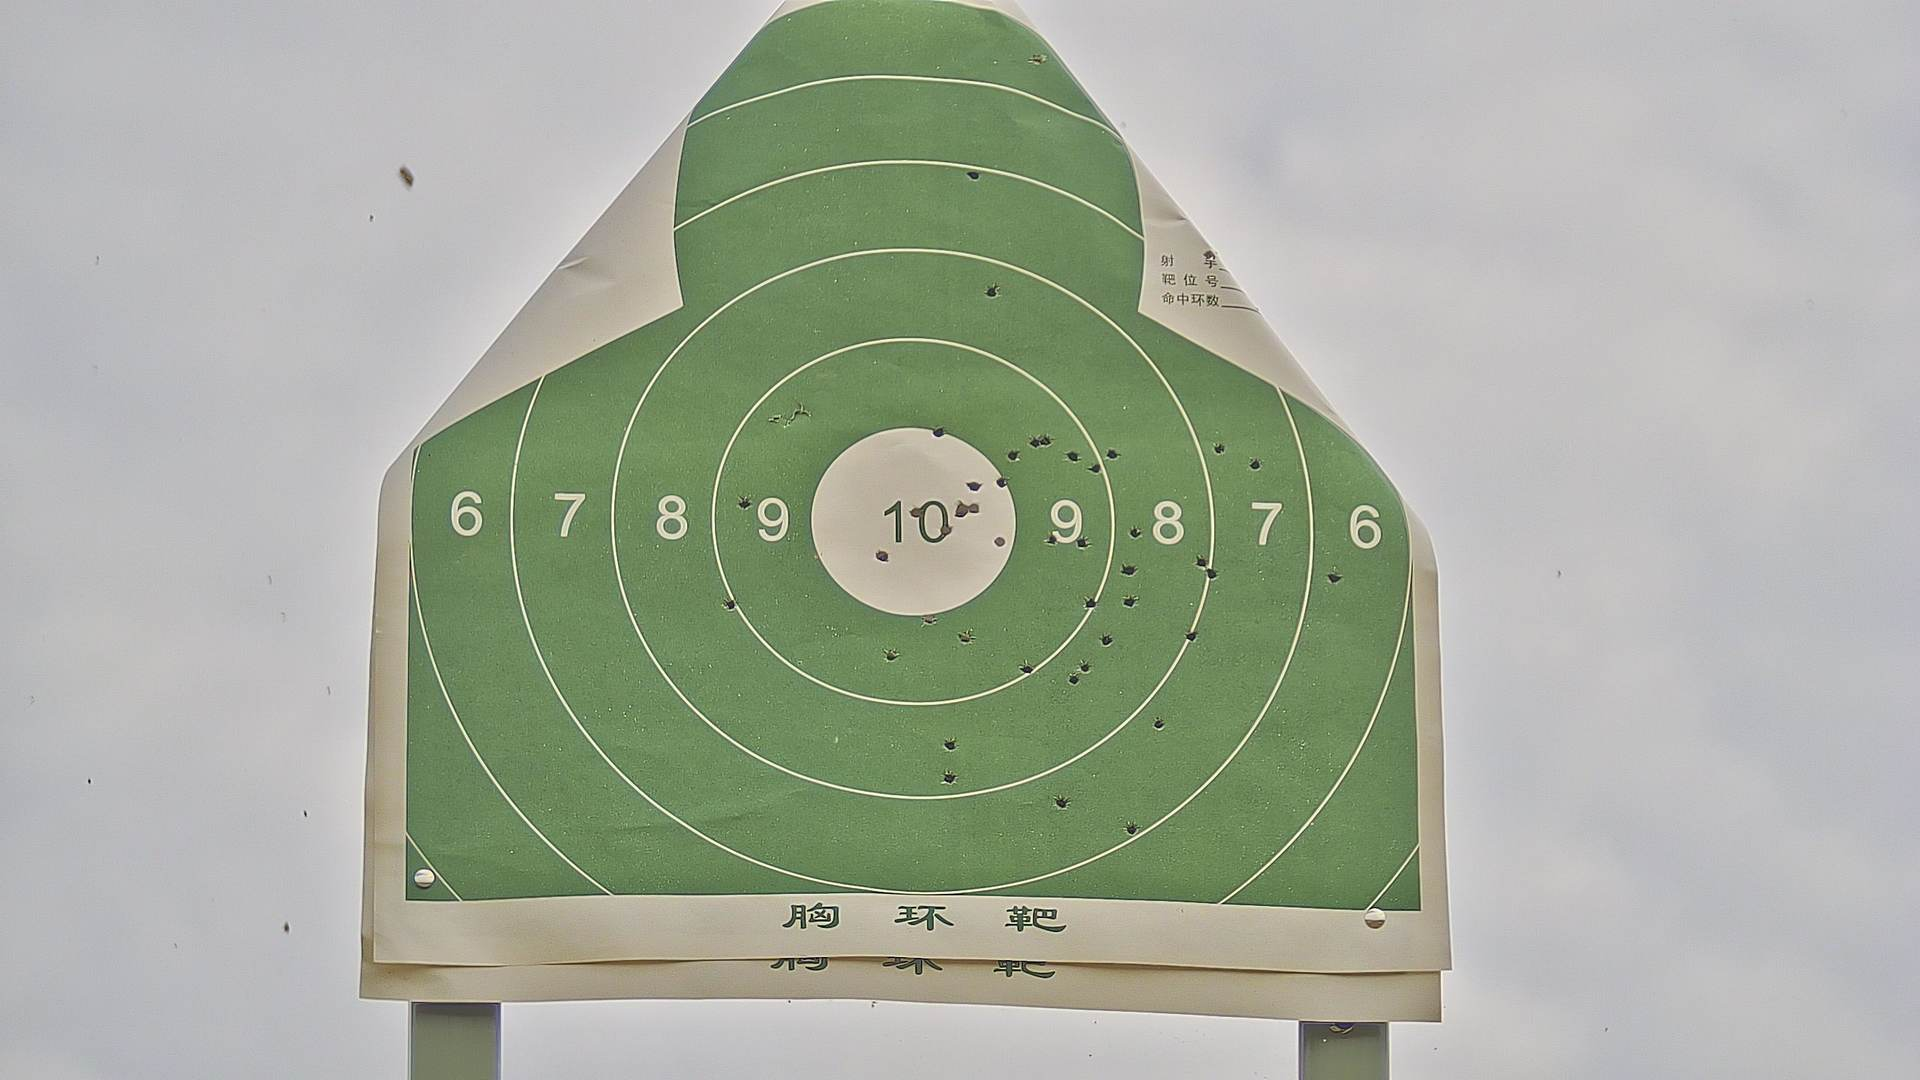hole: (961, 157, 986, 185), (1180, 621, 1207, 645), (1092, 628, 1121, 649), (1118, 816, 1143, 840), (877, 644, 903, 665), (732, 492, 758, 512), (916, 611, 939, 633), (1025, 46, 1048, 67), (716, 591, 737, 615), (1120, 591, 1143, 612), (1048, 790, 1069, 814), (1124, 524, 1153, 541), (982, 280, 1001, 306), (1327, 566, 1346, 589), (1189, 549, 1208, 574), (939, 733, 964, 752), (1067, 667, 1083, 696), (953, 626, 975, 647), (939, 767, 959, 790), (928, 419, 949, 439), (968, 496, 985, 520), (1087, 458, 1106, 477), (1035, 427, 1054, 448), (1120, 560, 1142, 578), (1073, 531, 1093, 550), (1245, 452, 1262, 473), (1149, 713, 1170, 731), (992, 533, 1014, 549), (1075, 658, 1097, 674), (952, 498, 967, 522), (1203, 564, 1221, 583), (963, 477, 985, 492), (1098, 446, 1121, 460), (1083, 592, 1101, 609), (872, 545, 887, 564), (1007, 444, 1022, 465), (1211, 436, 1225, 458), (1064, 444, 1080, 463), (1015, 659, 1035, 674), (940, 520, 953, 541), (993, 473, 1009, 491), (1025, 433, 1036, 452), (911, 502, 923, 520), (1046, 531, 1058, 545)
kernel: (909, 520, 913, 526)
target: (405, 18, 1423, 909)
ten: (806, 425, 1021, 620)
